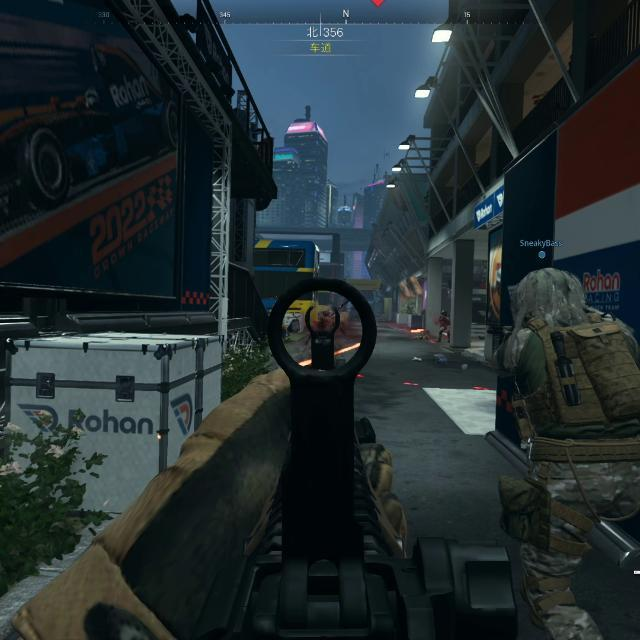MW2_body: (434, 309, 452, 344), (313, 310, 337, 332)
